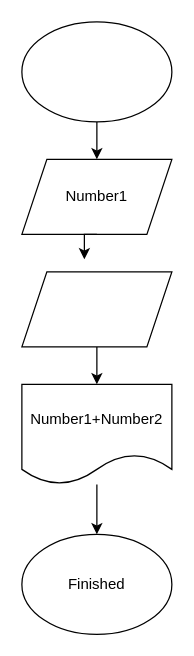
The diagram is 194 pixels wide and 656 high, and some of its shapes have lost their labels. Each missing label, with the centre of its shape:
Number2: point 96,309
Start: point 96,71
